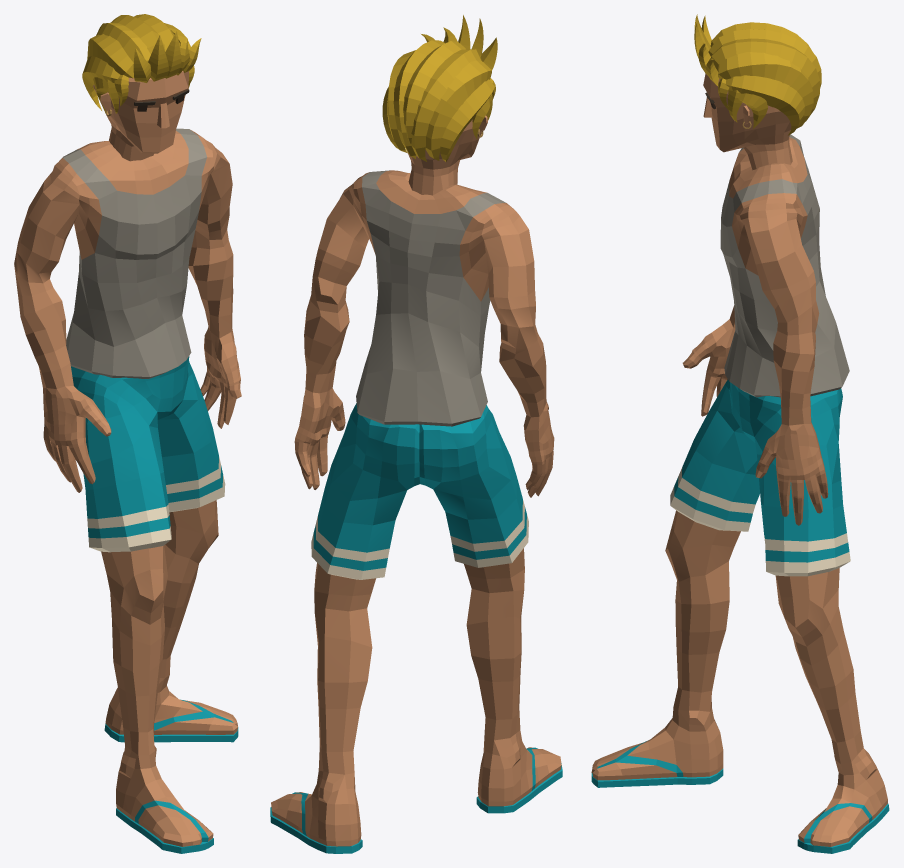
File: av-surfista-fim-tarde.glb
3 renders of one model, left to right at view 1: azimuth 30°, elevation 25°; view 2: azimuth 150°, elevation 25°; view 3: azimuth 270°, elevation 25°, orthographic.
Parts seen in each view (by area): view 1: Beach_Body; view 2: Beach_Body; view 3: Beach_Body.
Part boxes in pixels (<box>): Beach_Body: <box>14,14,241,853</box>; Beach_Body: <box>270,15,562,853</box>; Beach_Body: <box>591,14,889,853</box>.
Bounding box in the file's own units: 0.5931 × 1.83 × 0.6411.
